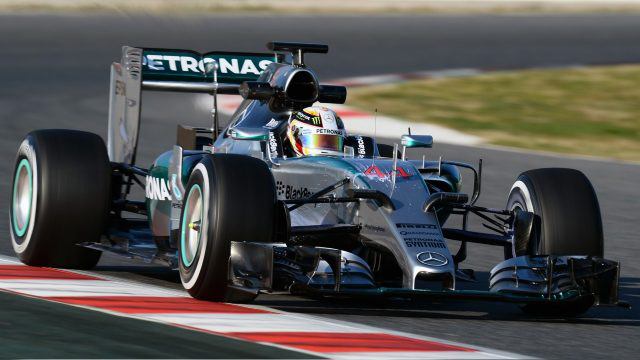F1 Car: (5, 34, 626, 325)
